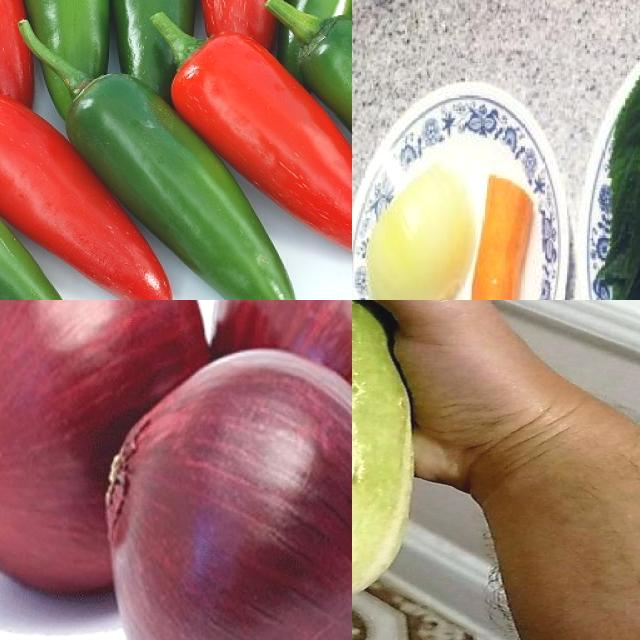carrot: (471, 172, 538, 301)
cucumber: (353, 301, 421, 610)
onion: (107, 347, 353, 640), (1, 301, 209, 601), (209, 301, 353, 538), (367, 158, 476, 301)
